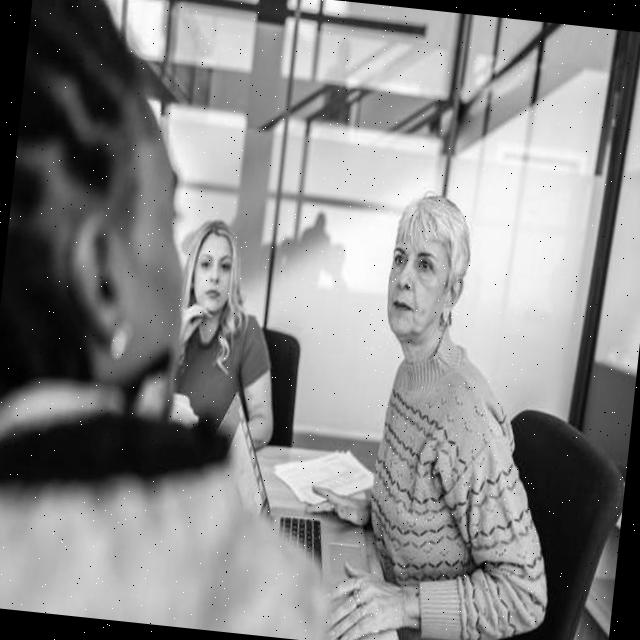Angry: (382, 232, 454, 341)
